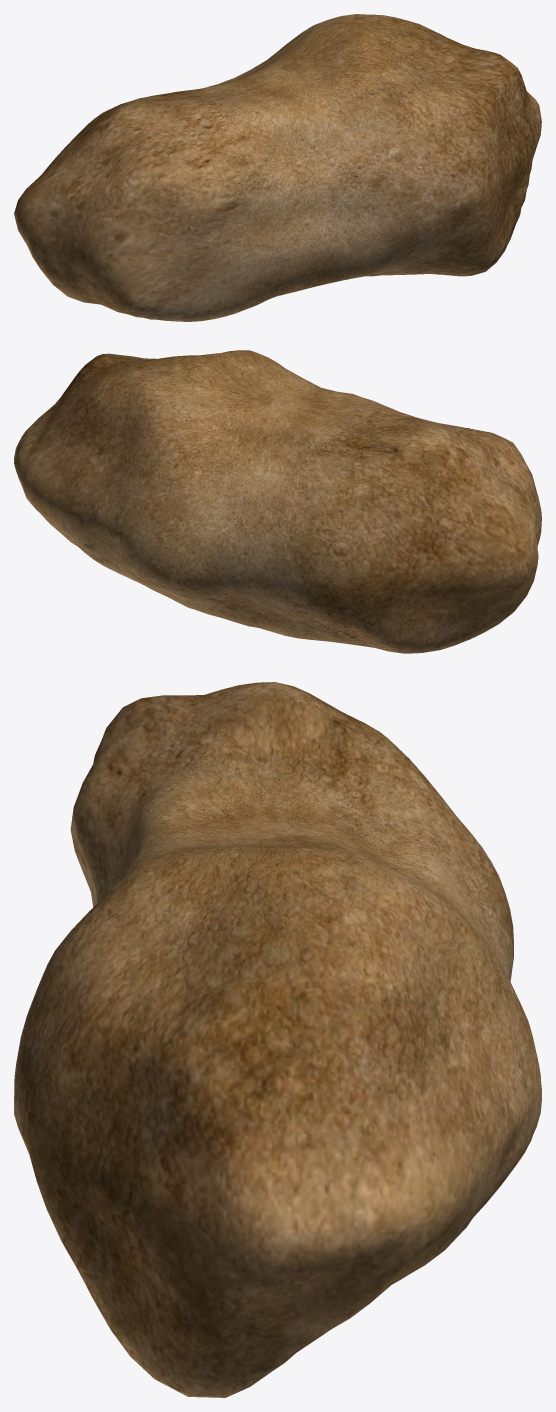
Rendered from bacchus.glb.
3 views of the same model, one above another, from view 1: azimuth 30°, elevation 25°; view 2: azimuth 150°, elevation 25°; view 3: azimuth 270°, elevation 25° (orthographic). The views are drawn at different scales.
Parts seen in each view (by area): view 1: bacchus; view 2: bacchus; view 3: bacchus.
Part boxes in pixels (<box>): bacchus: <box>14,14,541,321</box>; bacchus: <box>14,350,541,653</box>; bacchus: <box>14,682,541,1397</box>.
Size of the model in its own units: 147 by 67.79 by 70.81.
Materials: 1 (1 with a texture image).
